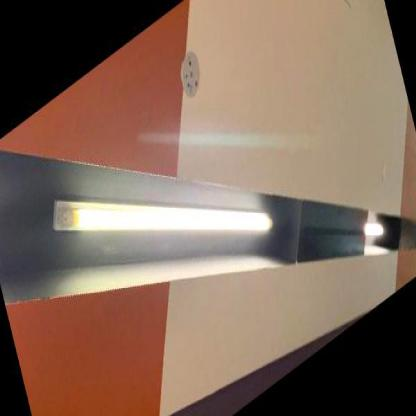light_on: (39, 49, 279, 382), (350, 190, 396, 277), (411, 209, 415, 266)
